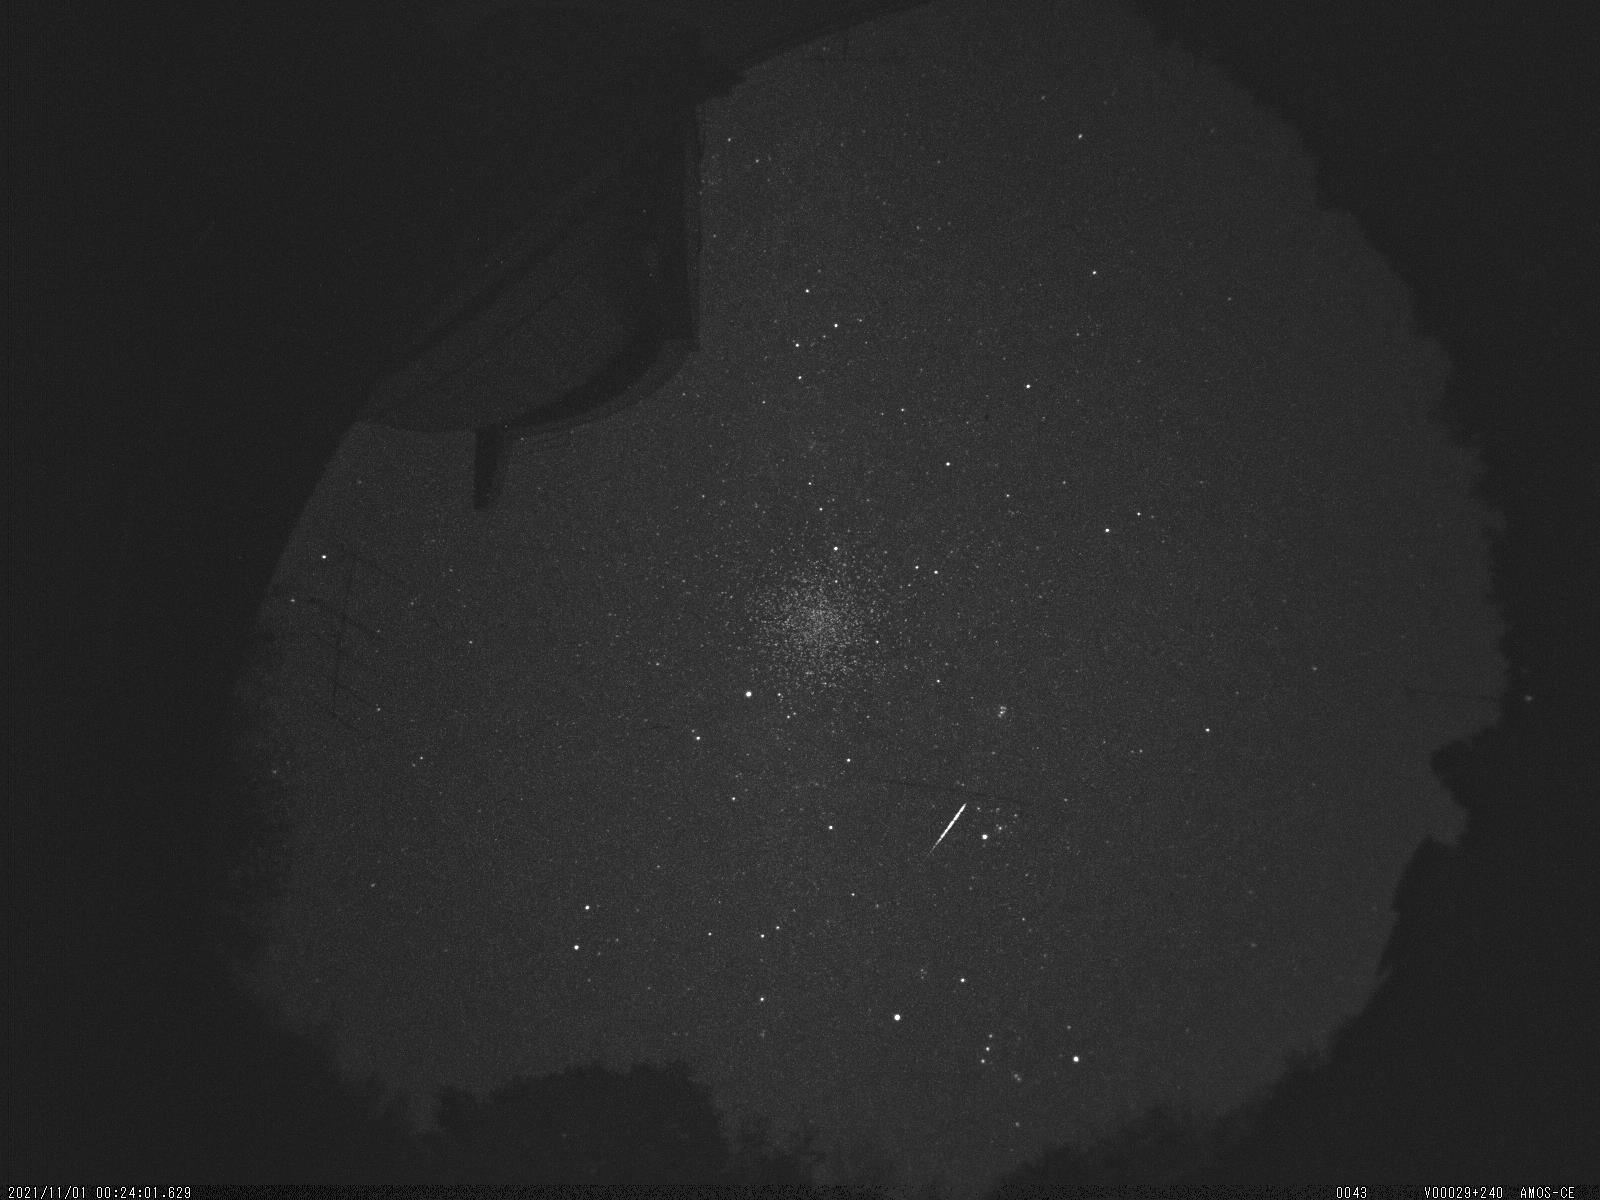Meteor: (929, 795, 968, 861)
